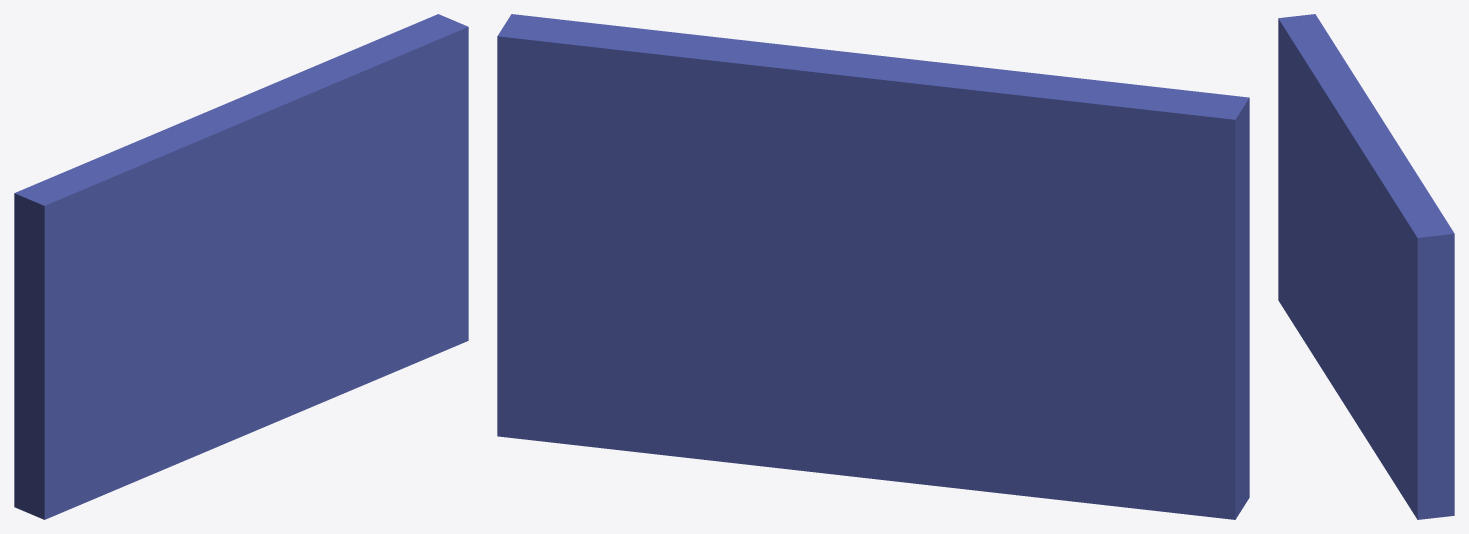
The model's file is blockout_Desk_with_PC_Screen.fbx.
The picture shows the model from 3 angles, left to right: view 1: azimuth 30°, elevation 25°; view 2: azimuth 150°, elevation 25°; view 3: azimuth 270°, elevation 25°; orthographic projection. The views are drawn at different scales.
Visible parts, largest first — view 1: Object001; view 2: Object001; view 3: Object001.
Part boxes in pixels (x1,y1,x2,y2): Object001: (14, 14, 468, 519); Object001: (497, 14, 1249, 519); Object001: (1278, 14, 1454, 519).
Bounding box in the file's own units: 40.2 × 23.6 × 13.39.
1 material, 1 textured.
